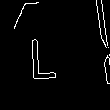L_N: (40, 29, 70, 81)
